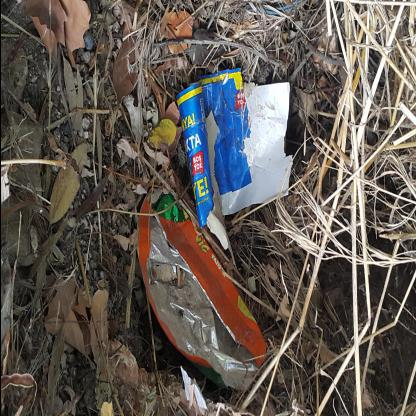kagit: (67, 126, 231, 243)
plastik: (184, 151, 395, 283)
